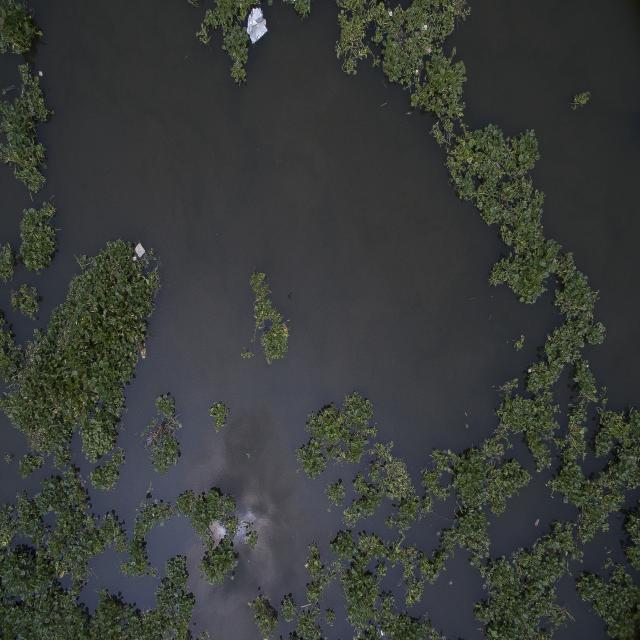plastic: (240, 3, 276, 46), (130, 242, 152, 270)
